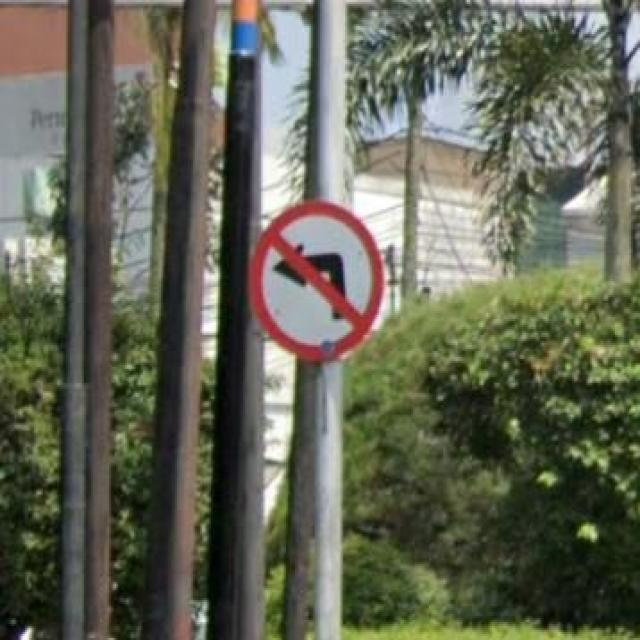traffic sign: (248, 203, 380, 360)
